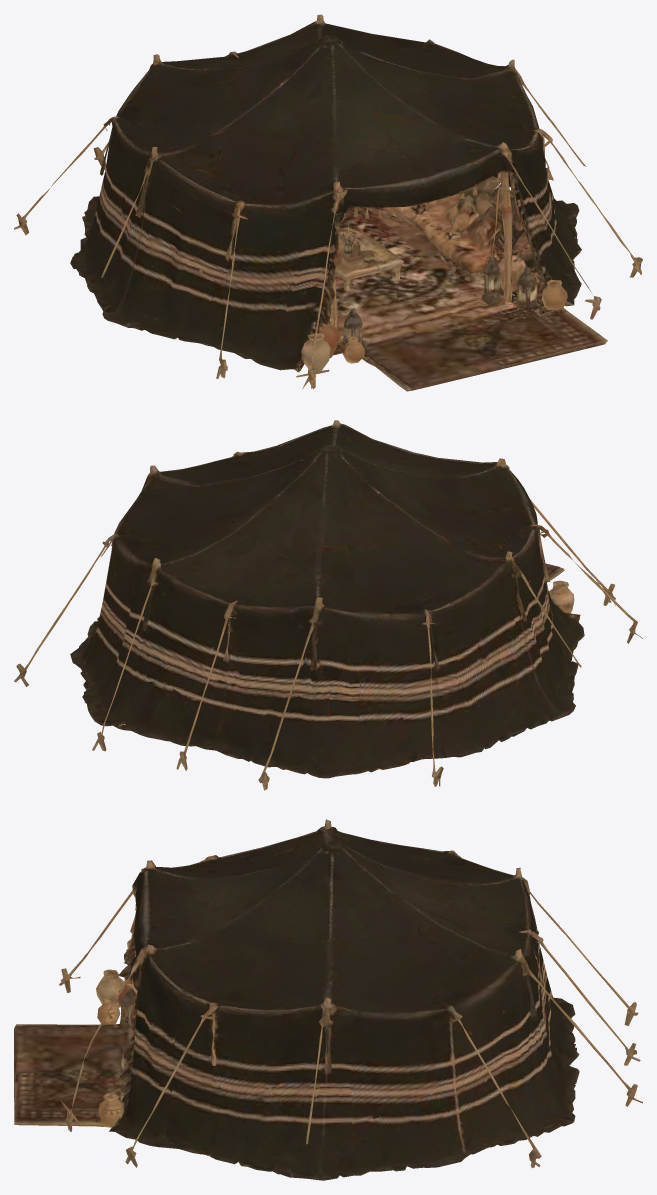
Rendered from big_tent.glb.
The picture shows the model from 3 angles, top to bottom: view 1: azimuth 30°, elevation 25°; view 2: azimuth 150°, elevation 25°; view 3: azimuth 270°, elevation 25°; orthographic projection. The views are drawn at different scales.
Parts seen in each view (by area): view 1: Mesh_0; view 2: Mesh_0; view 3: Mesh_0.
Part boxes in pixels (bbox=[...]): Mesh_0: bbox=[14, 14, 642, 391]; Mesh_0: bbox=[14, 420, 642, 790]; Mesh_0: bbox=[14, 819, 642, 1180].
Bounding box in the file's own units: 0.4572 × 0.1997 × 0.5073.
1 material, 1 textured.
